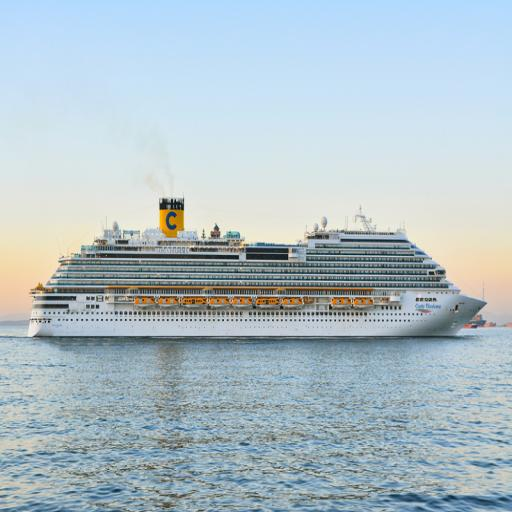cruises: (25, 189, 492, 348)
